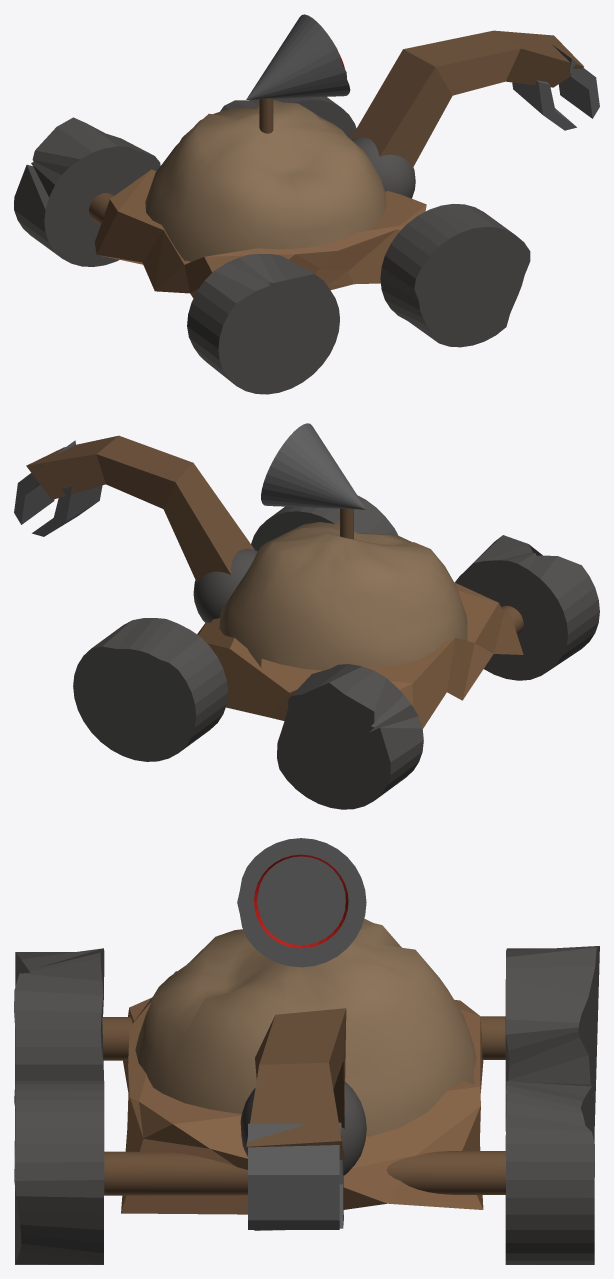
File: robot3.fbx
The picture shows the model from 3 angles, top to bottom: view 1: azimuth 30°, elevation 25°; view 2: azimuth 150°, elevation 25°; view 3: azimuth 270°, elevation 25°; orthographic projection. The views are drawn at different scales.
Visible parts, largest first — view 1: Цилиндр, Сфера, Куб.003, Куб, Конус, Сфера.001, Цилиндр.001; view 2: Цилиндр, Сфера, Куб.003, Куб, Конус, Сфера.001; view 3: Цилиндр, Сфера, Куб, Куб.003, Конус, Цилиндр.004, Цилиндр.005, Сфера.001, Конус.001.
Part boxes in pixels (x1,y1,x2,y2): Цилиндр: (14, 97, 530, 394); Сфера: (145, 100, 386, 261); Куб.003: (350, 30, 599, 168); Куб: (94, 169, 426, 298); Конус: (246, 14, 350, 99); Сфера.001: (352, 137, 415, 198); Цилиндр.001: (259, 98, 273, 133); Цилиндр: (73, 495, 599, 809); Сфера: (219, 522, 467, 670); Куб.003: (14, 435, 254, 583); Куб: (197, 582, 523, 728); Конус: (261, 423, 366, 509); Сфера.001: (193, 548, 257, 622); Цилиндр: (14, 946, 599, 1264); Сфера: (135, 918, 476, 1136); Куб: (121, 971, 483, 1214); Куб.003: (246, 1008, 346, 1230); Конус: (237, 838, 366, 967); Цилиндр.004: (104, 1151, 505, 1195); Цилиндр.005: (102, 1016, 505, 1060); Сфера.001: (240, 1081, 366, 1175); Конус.001: (254, 854, 348, 948).
Size of the model in its own units: 430 by 237 by 334.
